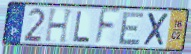2: (23, 6, 47, 43)
E: (117, 11, 146, 46)
F: (93, 7, 122, 48)
H: (43, 8, 75, 45)
L: (72, 10, 91, 44)
X: (142, 11, 170, 48)
